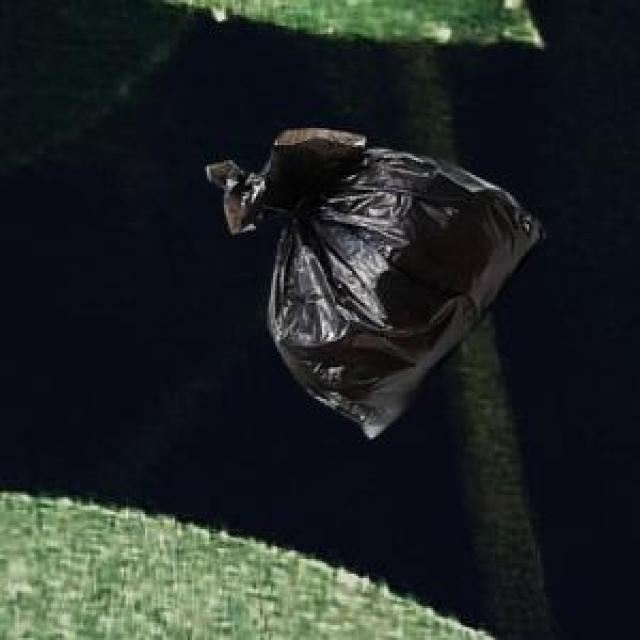waste: (206, 129, 541, 438)
